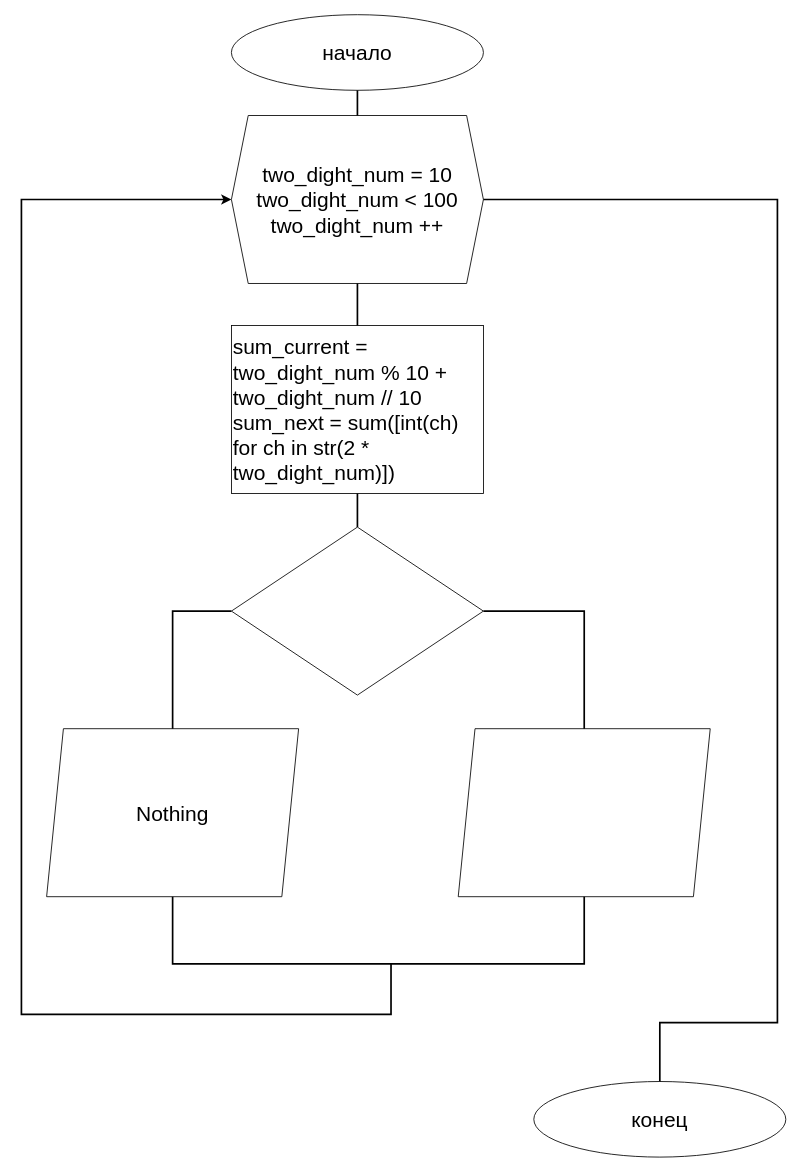
This 801x1172 diagram has some shape labels left out. Each missing label, with the centre of its shape:
"if sum_current == sum_next" belongs at [357,610].
"two_dight_num" belongs at [583,812].
